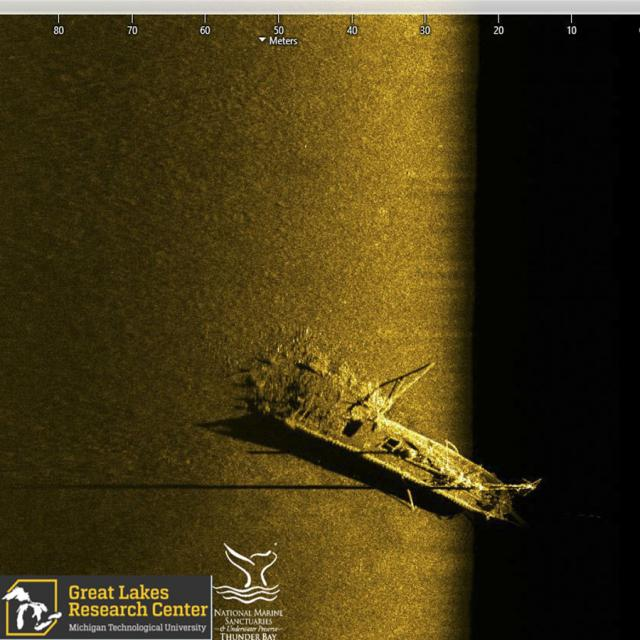ship: (246, 344, 543, 530)
